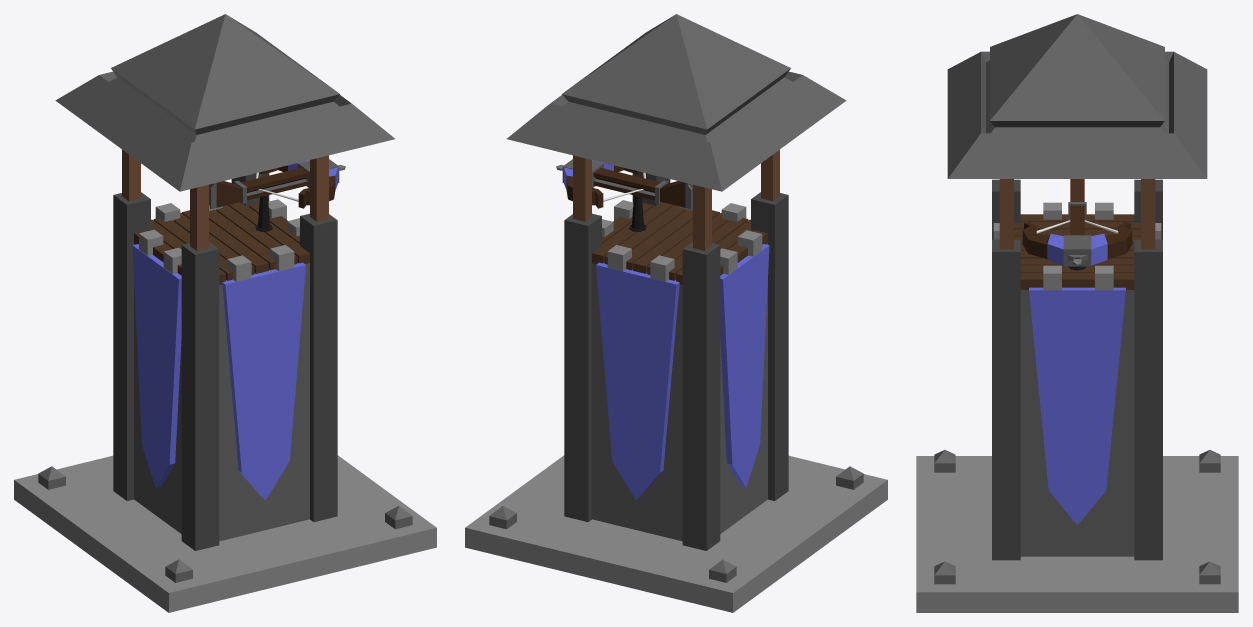
Rendered from ArcherTower3.fbx.
3 renders of one model, left to right at view 1: azimuth 30°, elevation 25°; view 2: azimuth 150°, elevation 25°; view 3: azimuth 270°, elevation 25°, orthographic. The views are drawn at different scales.
Parts seen in each view (by area): view 1: Tower3, Bow3; view 2: Tower3, Bow3; view 3: Tower3, Bow3.
Part boxes in pixels (x1=…): Tower3: x1=14, y1=14, x2=436, y2=612; Bow3: x1=209, y1=159, x2=345, y2=231; Tower3: x1=465, y1=14, x2=887, y2=612; Bow3: x1=556, y1=159, x2=692, y2=231; Tower3: x1=916, y1=14, x2=1238, y2=612; Bow3: x1=1022, y1=179, x2=1132, y2=270.
Bounding box in the file's own units: 2.2 × 4 × 2.2.
